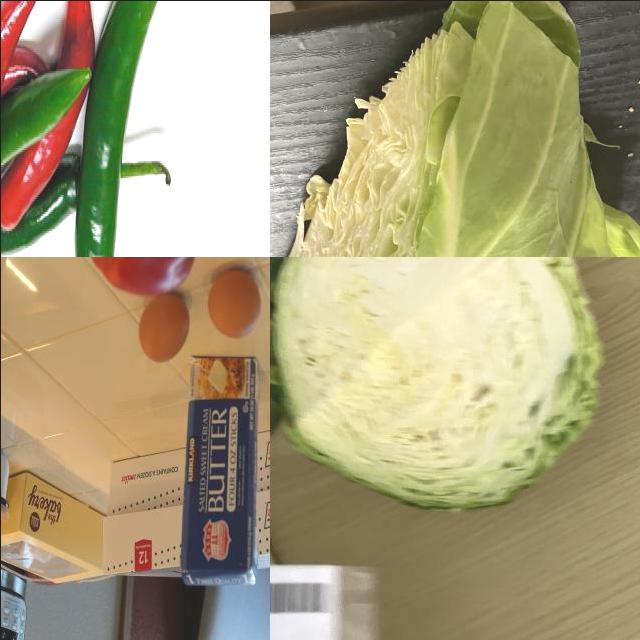cabbage: (270, 1, 640, 257), (270, 257, 606, 516)
egg: (205, 268, 263, 342), (136, 293, 190, 365)
